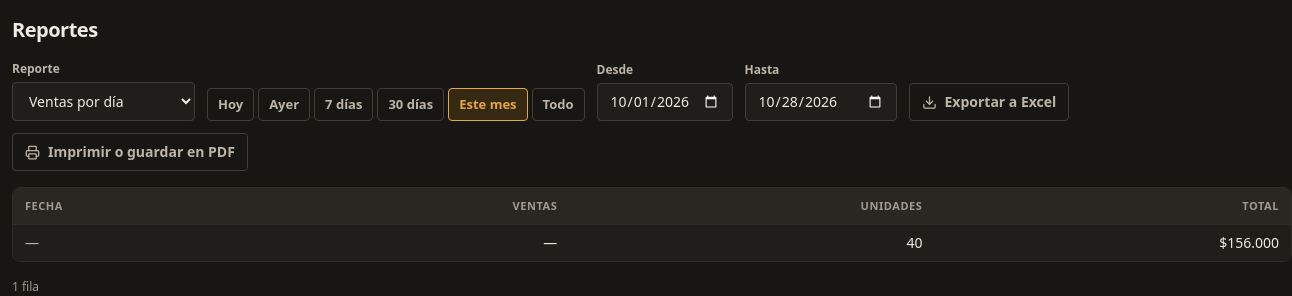
cómo se muestran los números › le pone el % a la participación, que si no se lee como pesos
(page scrolled)
Expected: the heading "Reportes" is shown, 12,16 -> 98,43
Select "Ventas por categoría" in the dropdown labelled "Reporte" at (104, 102), box 12,82 -> 195,121
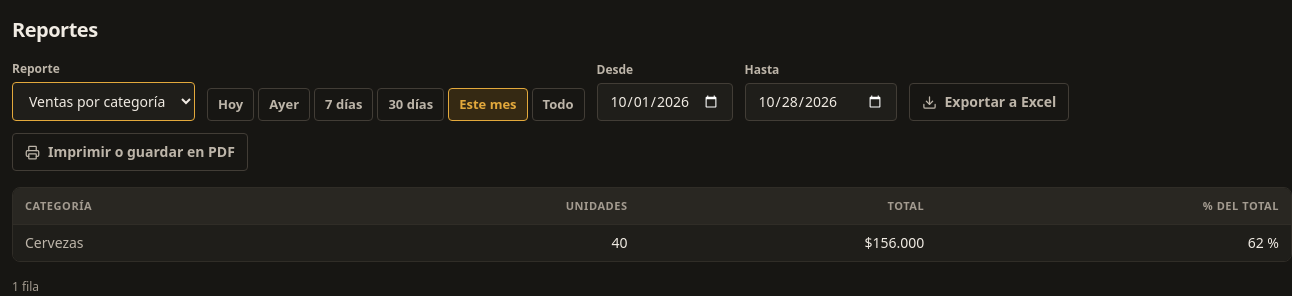
Now the column heading "% del total" is shown, box 936,188 -> 1291,224
Now the text "62 %" is shown, box 936,224 -> 1291,261
